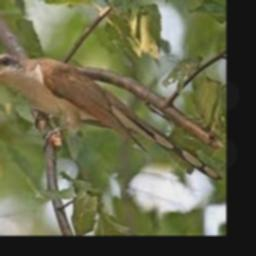Cuckoo: (0, 53, 223, 180)
